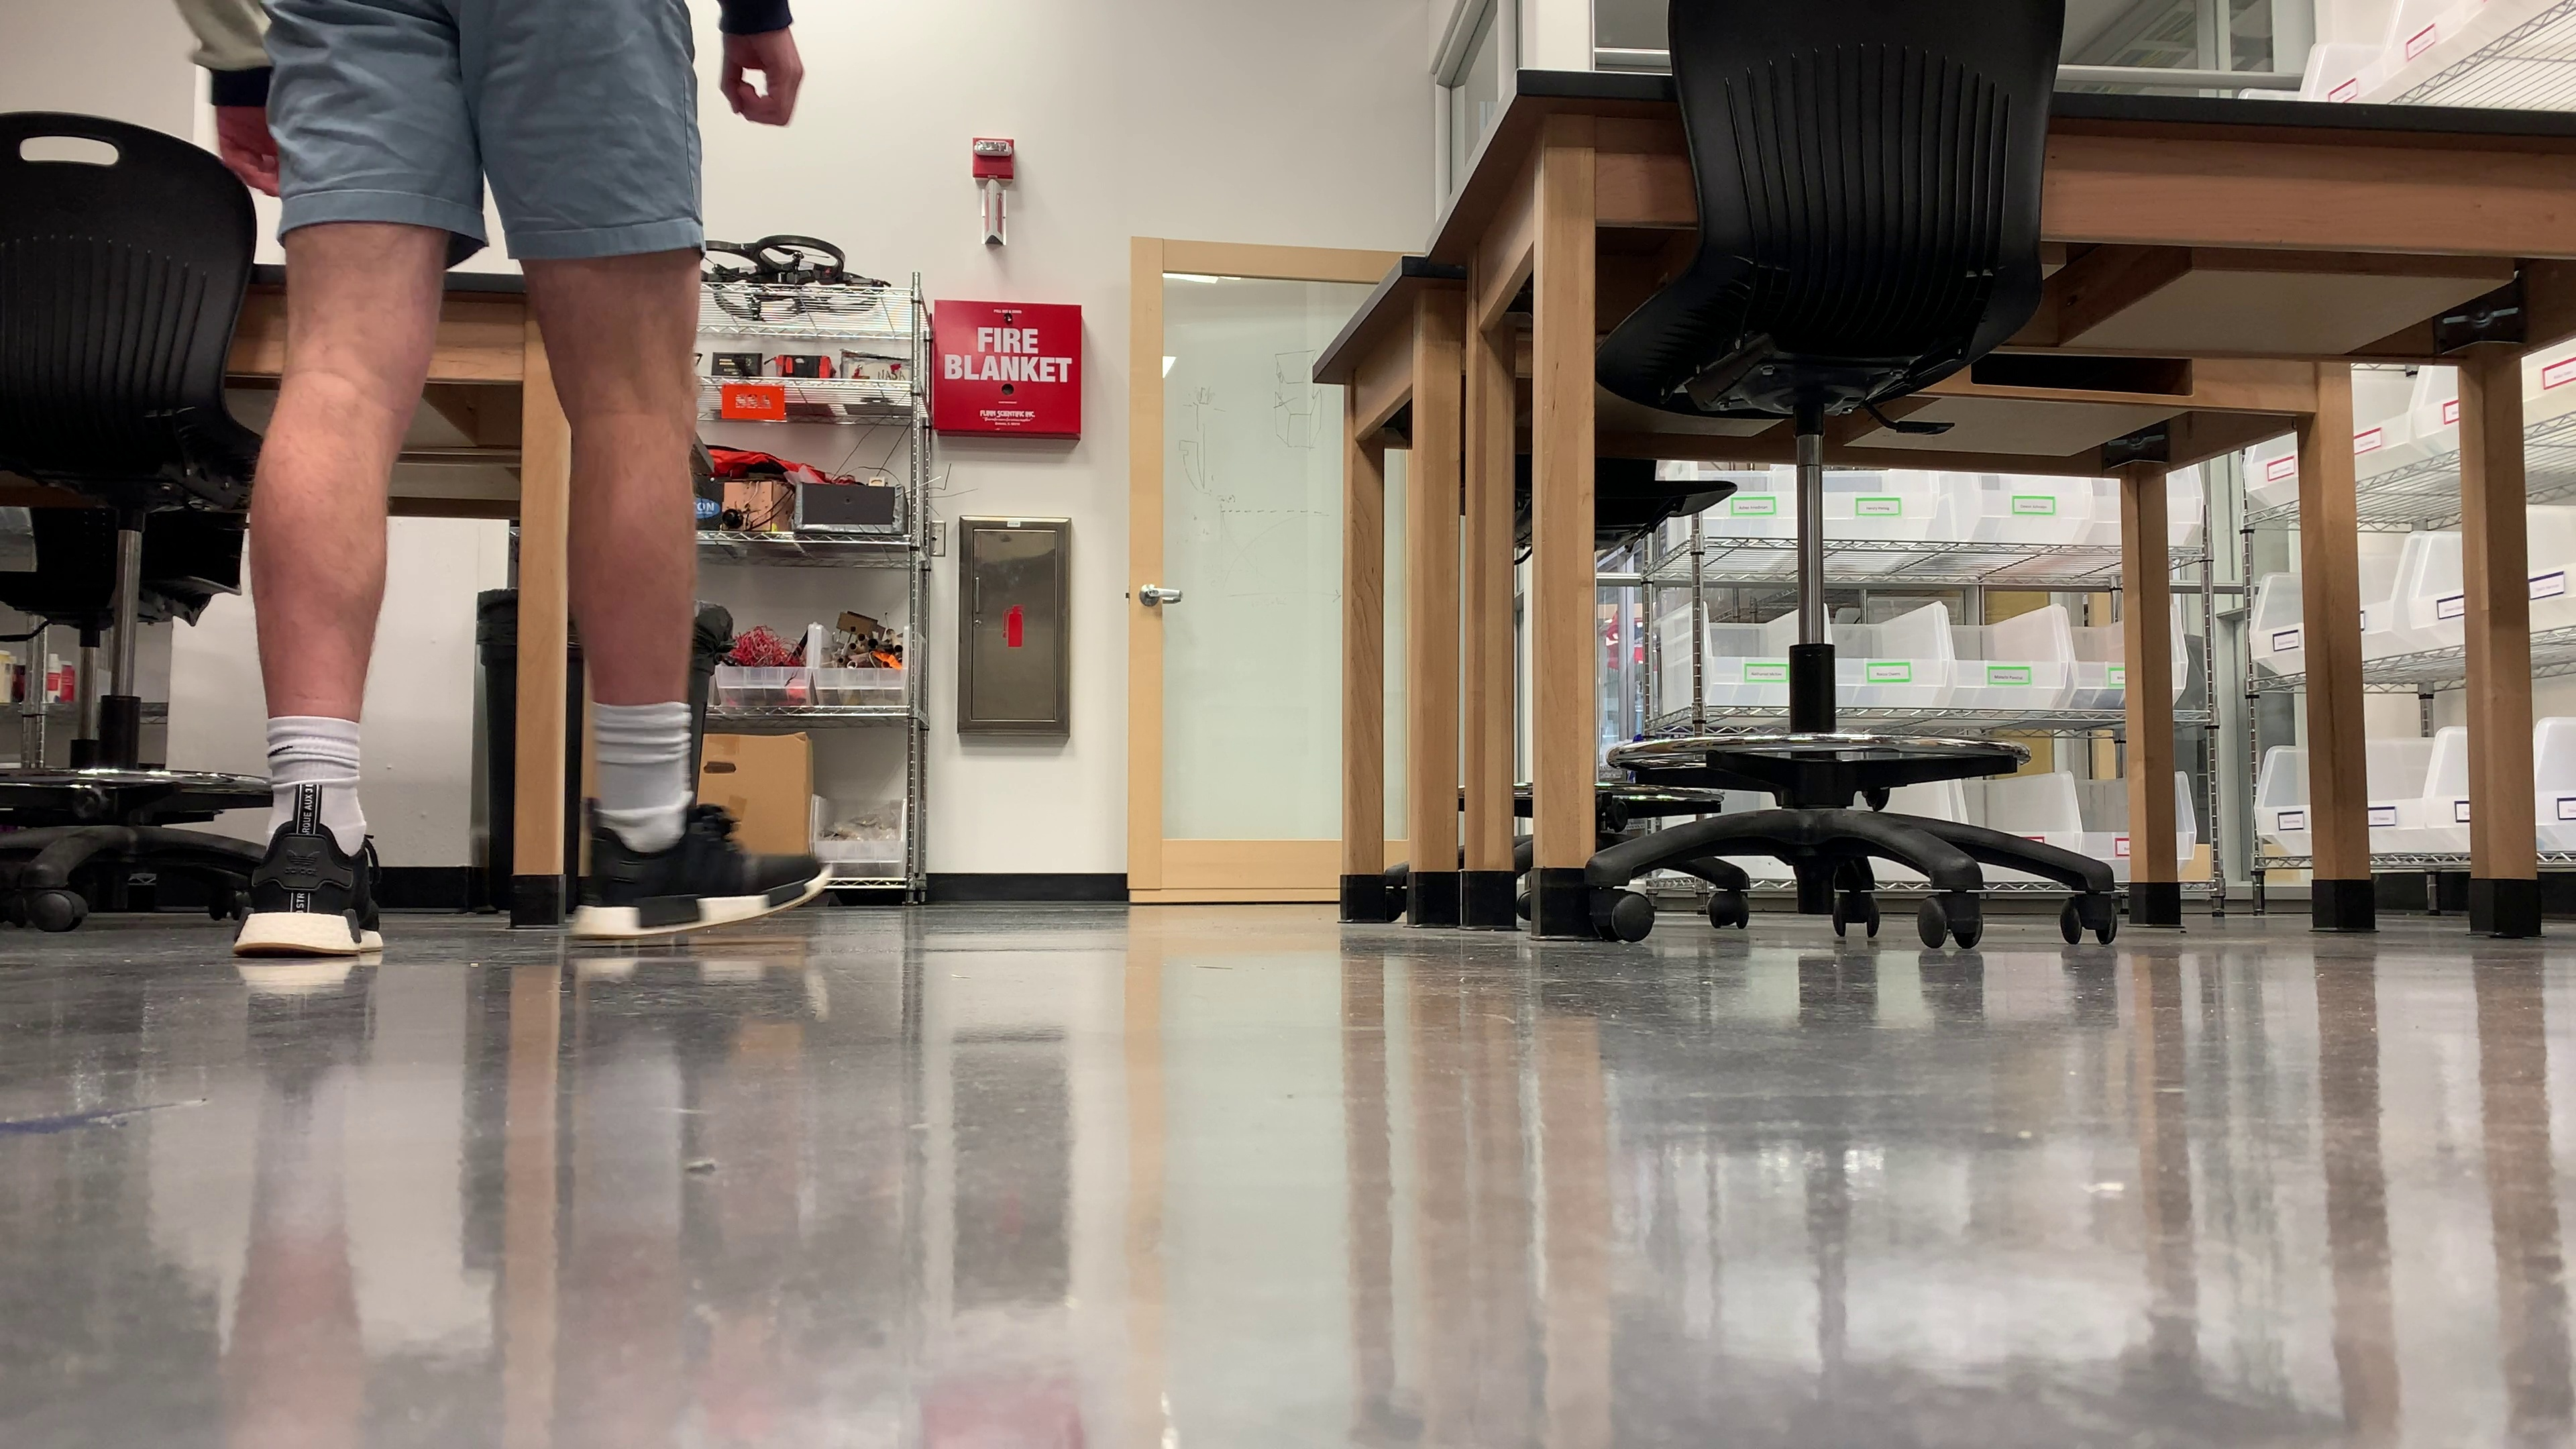shoe: (568, 809, 833, 936), (234, 819, 380, 957)
